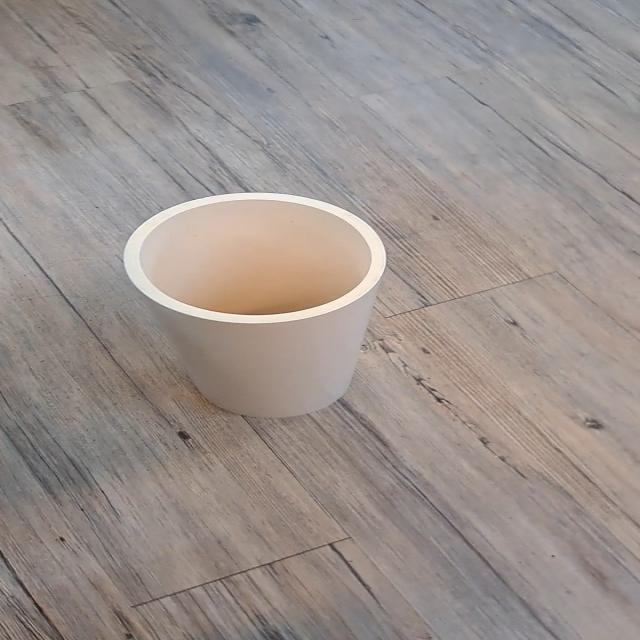CORAL: (99, 186, 428, 434)
